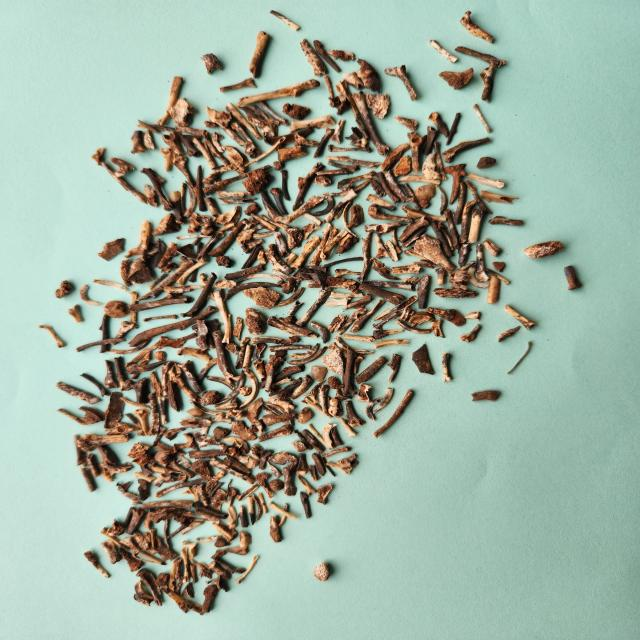fossil: (127, 305, 220, 348), (134, 255, 196, 303), (234, 78, 323, 108), (351, 90, 389, 158), (200, 164, 274, 197), (334, 79, 372, 141), (371, 388, 415, 439), (100, 162, 150, 206), (204, 102, 248, 148), (179, 271, 219, 319), (411, 234, 458, 274), (138, 165, 175, 212), (207, 218, 250, 258), (274, 194, 331, 224), (154, 74, 186, 127), (211, 330, 242, 384), (292, 161, 324, 212), (235, 105, 282, 139), (294, 286, 332, 328), (242, 134, 288, 168), (382, 63, 421, 103), (456, 10, 498, 47), (159, 584, 207, 616), (224, 102, 263, 141), (119, 219, 153, 263), (441, 136, 494, 164), (126, 293, 194, 314), (95, 441, 134, 477), (298, 38, 332, 79), (453, 45, 510, 69), (322, 188, 360, 224), (348, 298, 387, 333), (222, 281, 284, 303), (228, 119, 262, 159), (208, 456, 256, 484), (246, 29, 272, 80), (287, 233, 322, 270), (133, 567, 164, 608), (212, 369, 247, 405), (126, 249, 159, 287), (258, 363, 306, 389), (262, 125, 316, 148), (501, 301, 541, 332), (124, 338, 164, 369), (358, 280, 407, 305), (441, 161, 468, 206), (76, 432, 131, 454), (54, 380, 102, 405), (308, 222, 334, 268), (381, 170, 416, 204), (212, 289, 233, 345), (272, 267, 314, 295), (521, 237, 568, 262), (310, 38, 342, 74), (396, 215, 433, 246), (286, 112, 338, 134), (154, 477, 206, 499), (504, 339, 534, 377), (353, 57, 383, 95), (165, 95, 198, 129), (306, 274, 362, 294), (380, 140, 412, 174), (190, 318, 224, 350), (464, 180, 494, 216), (436, 66, 477, 92), (354, 354, 388, 385), (201, 131, 231, 166), (322, 178, 374, 198), (265, 315, 310, 338), (275, 316, 320, 339), (254, 98, 292, 125), (430, 219, 455, 260), (171, 373, 204, 404), (177, 359, 206, 394), (190, 136, 218, 172), (319, 229, 349, 262), (264, 242, 293, 276), (426, 37, 461, 65), (355, 231, 374, 282), (478, 60, 499, 106), (323, 154, 383, 170), (366, 203, 414, 223), (102, 389, 126, 429), (147, 533, 179, 563), (264, 354, 288, 394), (75, 336, 128, 354), (374, 170, 401, 205), (237, 368, 260, 409), (145, 506, 197, 524), (242, 286, 281, 310), (336, 308, 368, 337), (175, 259, 208, 287), (424, 306, 466, 328), (82, 550, 112, 580), (341, 346, 359, 396), (170, 156, 198, 188), (459, 198, 478, 245), (405, 130, 425, 174), (260, 188, 284, 224), (333, 335, 376, 355), (310, 127, 336, 160), (151, 212, 184, 238), (410, 342, 436, 375), (200, 163, 237, 186), (442, 208, 462, 250), (285, 346, 327, 366), (209, 553, 247, 575), (400, 205, 449, 222), (78, 372, 110, 398), (100, 527, 132, 553), (144, 392, 162, 438), (462, 173, 508, 191), (154, 242, 179, 275), (337, 169, 378, 189), (185, 446, 248, 459), (223, 262, 266, 281), (268, 9, 302, 33), (275, 142, 312, 164), (175, 129, 202, 159), (97, 237, 128, 263), (109, 320, 140, 346), (192, 163, 208, 213), (157, 331, 197, 351), (53, 405, 91, 426), (364, 92, 391, 121), (451, 180, 468, 226), (74, 403, 108, 426), (397, 182, 423, 212), (124, 376, 150, 406), (234, 555, 260, 585), (167, 190, 188, 227), (419, 150, 444, 181), (37, 324, 68, 349), (361, 221, 409, 237), (113, 354, 133, 392), (281, 459, 301, 497), (300, 396, 333, 419), (218, 76, 260, 94), (160, 130, 187, 158), (479, 188, 521, 206), (319, 347, 346, 375), (195, 234, 220, 264), (267, 377, 304, 397), (109, 338, 152, 355), (307, 423, 334, 450), (118, 547, 146, 573), (256, 424, 294, 443), (443, 111, 463, 147), (223, 144, 247, 174), (180, 180, 198, 220), (466, 206, 484, 246), (318, 226, 338, 262), (243, 306, 267, 336), (431, 139, 448, 181), (132, 578, 155, 609), (166, 456, 197, 479), (371, 258, 402, 281), (472, 103, 494, 135), (280, 101, 312, 123), (299, 428, 326, 454), (288, 374, 315, 400), (299, 378, 326, 404), (561, 264, 586, 292), (426, 110, 451, 138), (412, 182, 437, 210), (126, 440, 154, 465), (342, 399, 366, 428), (266, 500, 299, 521), (109, 156, 139, 179), (398, 226, 428, 249), (188, 241, 204, 284), (124, 360, 167, 376), (364, 192, 398, 212), (134, 530, 160, 556), (198, 52, 226, 76), (240, 243, 264, 271), (100, 420, 142, 436), (210, 519, 238, 543), (129, 351, 152, 380), (172, 431, 201, 454), (191, 501, 230, 518), (162, 284, 206, 299), (124, 506, 146, 536), (371, 311, 404, 331), (276, 286, 306, 308), (326, 142, 373, 156), (120, 531, 151, 552), (430, 287, 480, 300), (468, 388, 504, 406), (391, 152, 415, 179), (342, 201, 359, 239), (164, 379, 183, 413), (215, 204, 243, 227), (371, 386, 394, 414), (230, 419, 258, 442), (268, 187, 290, 216), (272, 230, 294, 259), (188, 398, 223, 416), (176, 346, 213, 363), (421, 124, 440, 157), (384, 352, 403, 385), (341, 292, 374, 311), (196, 358, 221, 383), (158, 359, 174, 398), (98, 539, 122, 565), (466, 266, 492, 290), (364, 280, 416, 292), (250, 212, 281, 232), (234, 226, 265, 246), (485, 214, 529, 228), (142, 182, 164, 210), (308, 194, 336, 216), (78, 465, 100, 493), (154, 440, 188, 458), (234, 336, 252, 370), (416, 274, 433, 310), (325, 158, 363, 174), (115, 257, 134, 289), (102, 358, 121, 390), (69, 434, 88, 466), (222, 456, 254, 475), (134, 121, 177, 135), (148, 238, 168, 268), (200, 583, 220, 613), (495, 323, 522, 345), (154, 393, 172, 426), (140, 499, 194, 510), (91, 278, 128, 294), (324, 456, 355, 475), (98, 312, 112, 354), (235, 272, 284, 284), (327, 93, 351, 117), (116, 395, 152, 411), (190, 458, 214, 482), (80, 283, 103, 308), (198, 272, 217, 302), (131, 406, 150, 436), (275, 381, 305, 400), (323, 47, 358, 63), (127, 128, 147, 156), (475, 242, 489, 282), (483, 266, 511, 286), (102, 299, 130, 319), (254, 471, 274, 499), (205, 374, 236, 392), (288, 342, 319, 360), (484, 274, 502, 305), (52, 278, 76, 301), (118, 535, 142, 558), (192, 430, 221, 449), (246, 396, 265, 425), (334, 233, 359, 255), (189, 558, 214, 580), (340, 70, 366, 91), (260, 213, 292, 230), (194, 318, 210, 352), (438, 221, 456, 251), (220, 436, 250, 454), (261, 411, 297, 426), (395, 319, 431, 334), (322, 256, 367, 268), (328, 117, 347, 145), (266, 450, 299, 466), (396, 174, 444, 185), (123, 411, 144, 436), (208, 560, 233, 581), (364, 396, 384, 422), (236, 482, 262, 502), (292, 132, 324, 148), (170, 242, 200, 259), (284, 227, 306, 250), (448, 269, 471, 291), (249, 336, 291, 348), (447, 260, 475, 278), (90, 144, 110, 169), (202, 196, 222, 221), (433, 185, 449, 216), (298, 490, 314, 521), (322, 74, 337, 107), (174, 123, 207, 138), (345, 203, 364, 229), (394, 115, 423, 132), (159, 146, 177, 173), (85, 452, 103, 479), (321, 422, 339, 449), (296, 474, 318, 496), (292, 428, 313, 451), (177, 416, 214, 429), (138, 550, 168, 566), (210, 488, 230, 512), (458, 323, 482, 343), (370, 306, 400, 322), (194, 508, 222, 525), (136, 118, 162, 136), (140, 127, 158, 153), (204, 574, 230, 592), (310, 451, 328, 477), (268, 514, 284, 543), (278, 169, 292, 202), (482, 238, 503, 260), (311, 560, 332, 582), (320, 444, 353, 458), (440, 351, 454, 384), (326, 312, 348, 333), (105, 517, 128, 537), (238, 238, 265, 255), (118, 490, 145, 507), (164, 522, 191, 539), (209, 130, 228, 154), (161, 516, 174, 551), (316, 384, 331, 414), (268, 397, 296, 413), (408, 311, 436, 327), (126, 290, 139, 324), (66, 304, 87, 325), (338, 416, 359, 437), (146, 272, 168, 292), (371, 339, 411, 350), (315, 482, 334, 505), (298, 211, 325, 227), (151, 424, 169, 448), (134, 478, 152, 502), (310, 320, 328, 344), (312, 168, 355, 178), (373, 235, 390, 260), (195, 482, 212, 507), (402, 248, 432, 262), (207, 222, 237, 236), (148, 368, 162, 398), (457, 242, 473, 268), (214, 396, 240, 412), (394, 295, 420, 311), (199, 389, 222, 407), (150, 464, 184, 476), (372, 328, 406, 340), (180, 521, 207, 536), (266, 344, 311, 353), (294, 451, 310, 476), (345, 125, 366, 144), (355, 382, 374, 403), (390, 263, 423, 275), (257, 448, 274, 471), (216, 197, 259, 206), (186, 211, 202, 235), (252, 358, 268, 382), (180, 546, 190, 584), (180, 484, 200, 503), (153, 448, 174, 466), (308, 364, 329, 382), (250, 341, 268, 362), (162, 426, 187, 441), (383, 240, 400, 262), (429, 316, 446, 338), (142, 314, 179, 324), (326, 396, 342, 419), (389, 228, 403, 254), (474, 155, 498, 170), (369, 178, 387, 198), (252, 492, 264, 522), (193, 214, 215, 230), (246, 494, 257, 526), (321, 456, 337, 478), (265, 403, 292, 416), (179, 179, 189, 214), (98, 464, 116, 483), (323, 297, 354, 308), (300, 223, 320, 240), (181, 540, 198, 560), (206, 481, 226, 498), (212, 425, 232, 442), (213, 254, 234, 270), (175, 234, 217, 242), (142, 507, 156, 531), (236, 504, 250, 528), (153, 472, 174, 488), (326, 342, 350, 356), (241, 201, 263, 216), (241, 344, 254, 369), (265, 460, 283, 478), (286, 299, 305, 316), (332, 388, 355, 402), (215, 190, 255, 198), (168, 558, 178, 590), (342, 333, 377, 342), (131, 470, 157, 482), (122, 505, 135, 529), (278, 502, 290, 528), (232, 316, 244, 342), (262, 403, 286, 416), (327, 290, 366, 298), (333, 268, 364, 278), (256, 492, 270, 514), (336, 452, 358, 466), (178, 582, 196, 599), (249, 442, 267, 459), (296, 406, 313, 424), (203, 114, 222, 130), (328, 427, 344, 446), (226, 505, 238, 530), (412, 259, 439, 270), (333, 200, 347, 221), (173, 574, 187, 595), (160, 474, 189, 484), (242, 216, 260, 232), (137, 462, 155, 478), (172, 556, 184, 580), (238, 530, 254, 548), (302, 263, 328, 274), (153, 572, 172, 587), (160, 260, 180, 274), (114, 479, 134, 493), (326, 375, 346, 389), (173, 514, 196, 526), (312, 175, 333, 188), (398, 307, 416, 322), (267, 478, 286, 492), (224, 545, 248, 556), (195, 534, 224, 543), (191, 230, 206, 247), (252, 230, 280, 239), (308, 464, 322, 482), (250, 418, 264, 436), (434, 268, 448, 286), (255, 249, 268, 268), (352, 354, 364, 374), (209, 416, 233, 426), (213, 280, 237, 290), (216, 409, 239, 419), (270, 159, 287, 172), (176, 456, 193, 469), (228, 485, 238, 507), (349, 137, 367, 149), (462, 311, 483, 321), (336, 182, 355, 193), (153, 350, 169, 363), (211, 469, 227, 482), (244, 456, 260, 469), (290, 440, 307, 452), (148, 528, 158, 548), (213, 537, 231, 548), (401, 276, 423, 285), (261, 403, 275, 417), (228, 437, 244, 449), (224, 446, 240, 458), (185, 407, 204, 417), (189, 563, 198, 584), (172, 361, 185, 375), (224, 341, 238, 354), (491, 261, 506, 273), (134, 558, 164, 564), (167, 364, 176, 384), (200, 225, 216, 236), (232, 408, 248, 419), (284, 252, 298, 264), (185, 516, 213, 522), (238, 386, 253, 397), (225, 477, 233, 497), (282, 315, 298, 325), (197, 424, 210, 436), (214, 548, 229, 558), (348, 458, 362, 468), (287, 335, 301, 345), (247, 424, 260, 434)
